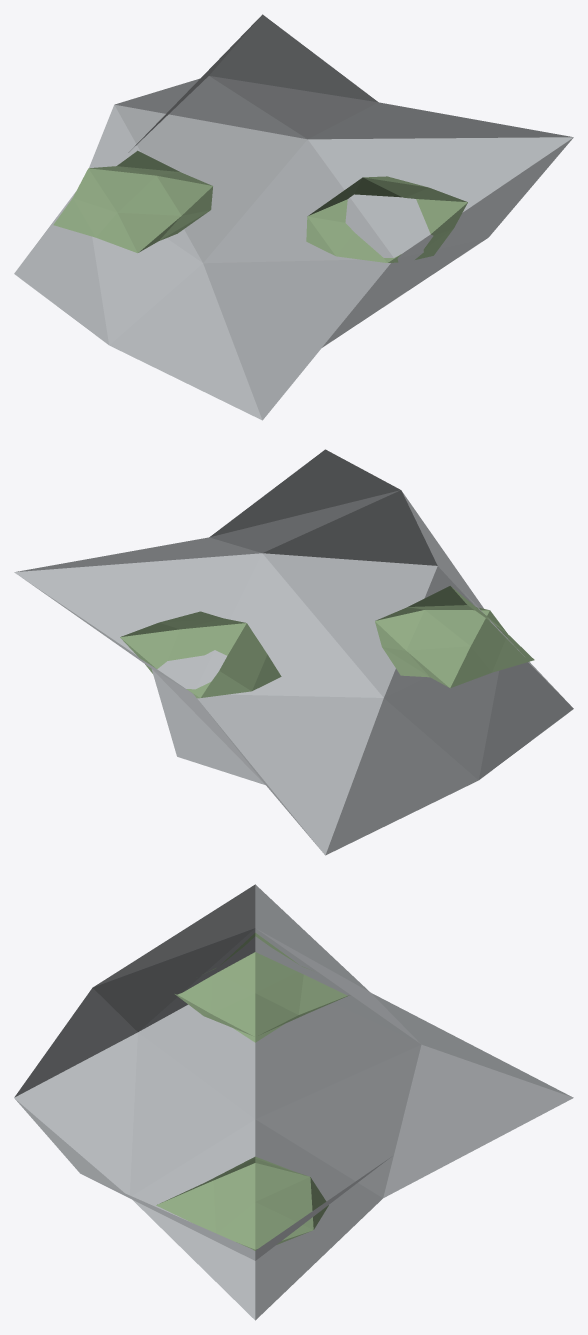
File: moss_rock_v03.glb
3 renders of one model, top to bottom at view 1: azimuth 30°, elevation 25°; view 2: azimuth 150°, elevation 25°; view 3: azimuth 270°, elevation 25°, orthographic. The views are drawn at different scales.
Parts seen in each view (by area): view 1: lod0; view 2: lod0; view 3: lod0.
Part boxes in pixels (box(x1,y1,x2,y2)): lod0: box(14, 14, 573, 420); lod0: box(14, 449, 573, 855); lod0: box(14, 884, 573, 1320).
Size of what is drawn, in the model's own units: 1.46 by 1.01 by 1.18.
